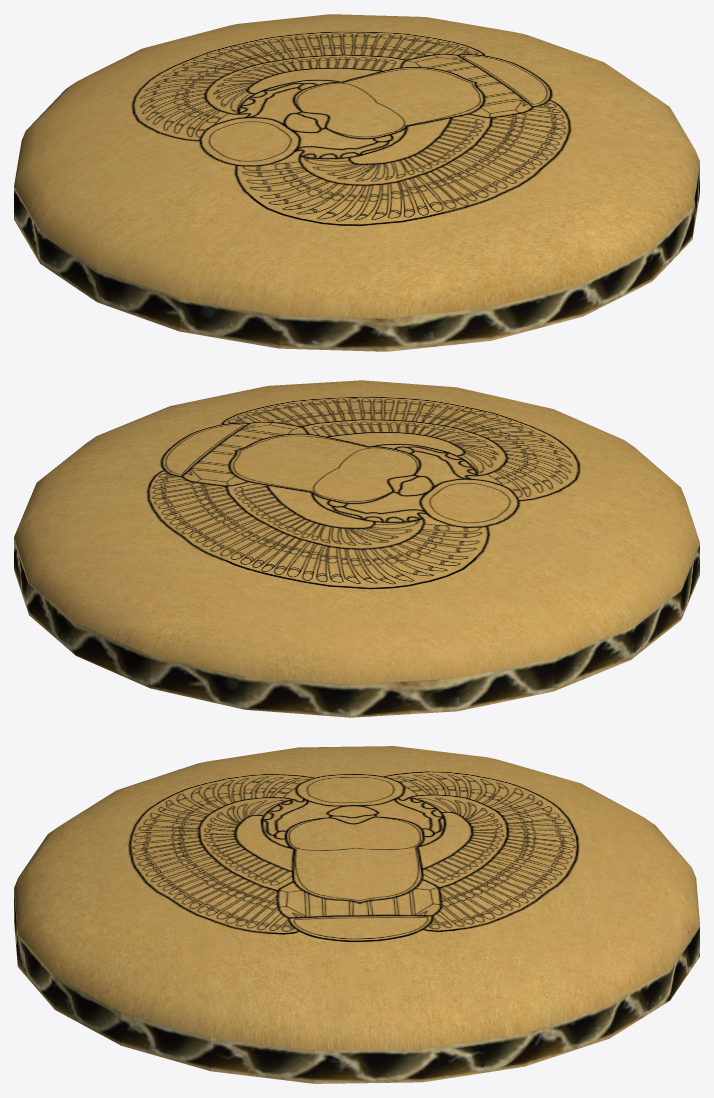
File: Pressure Plate.fbx
The picture shows the model from 3 angles, top to bottom: view 1: azimuth 30°, elevation 25°; view 2: azimuth 150°, elevation 25°; view 3: azimuth 270°, elevation 25°; orthographic projection.
Visible parts, largest first — view 1: Pressure_Plate; view 2: Pressure_Plate; view 3: Pressure_Plate.
Part boxes in pixels (x1,y1,x2,y2): Pressure_Plate: (14,14,699,351); Pressure_Plate: (14,380,699,717); Pressure_Plate: (14,746,699,1083).
Size of the model in its own units: 1.02 by 0.165 by 1.02.
Materials: 3 (3 with a texture image).
